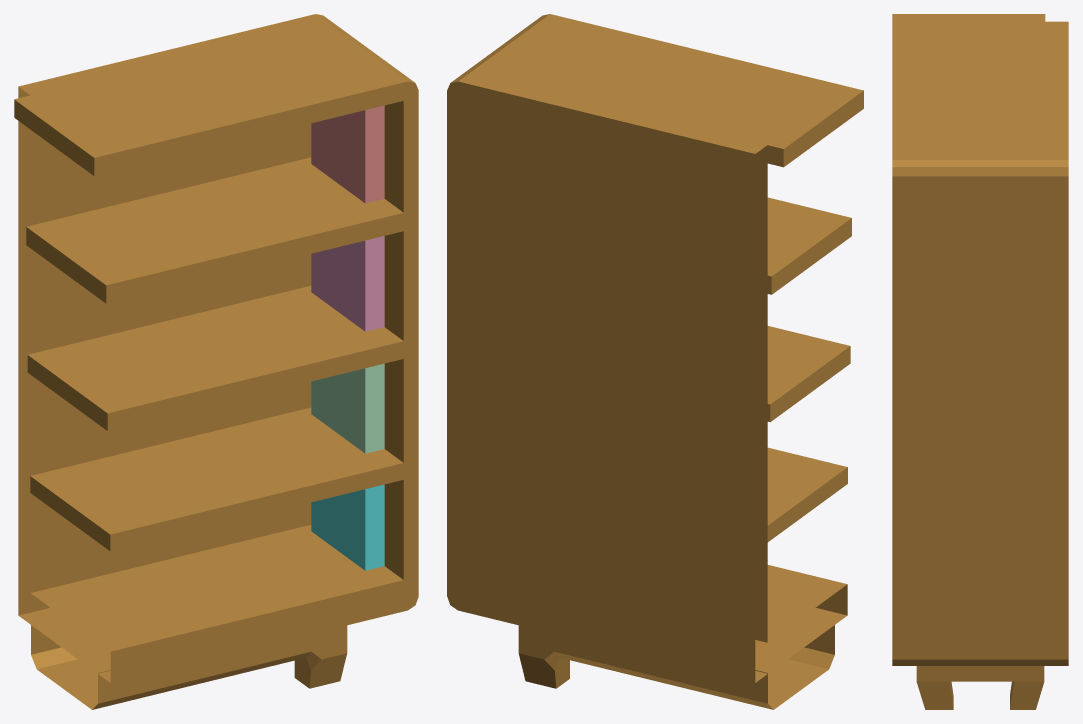
File: bookshelf_1781723916001_model.glb
The picture shows the model from 3 angles, left to right: view 1: azimuth 30°, elevation 25°; view 2: azimuth 150°, elevation 25°; view 3: azimuth 270°, elevation 25°; orthographic projection. The views are drawn at different scales.
Visible parts, largest first — view 1: Cube, Cube.004, Cube.003, Cube.002, Cube.001; view 2: Cube; view 3: Cube.
Boxes of the visible parts, x1,y1,x2,y2 form: Cube: (14,14,418,709); Cube.004: (311,105,384,203); Cube.003: (311,236,384,331); Cube.002: (311,363,384,453); Cube.001: (311,484,384,570); Cube: (447,14,863,709); Cube: (892,14,1068,709).
Size of the model in its own units: 1.05 by 1.86 by 0.5182.
